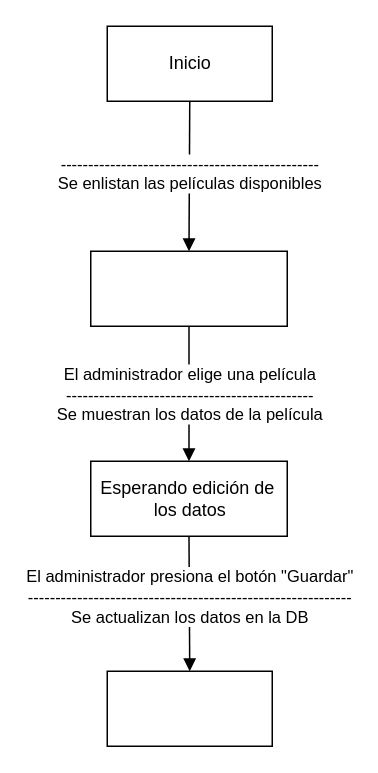
This 378x773 diagram has some shape labels left out. The box of each missing label's shape, as (x1, y1, x2, y2) in pixels:
Esperando selección de la película: (89, 250, 287, 326)
Fin: (106, 670, 272, 746)
